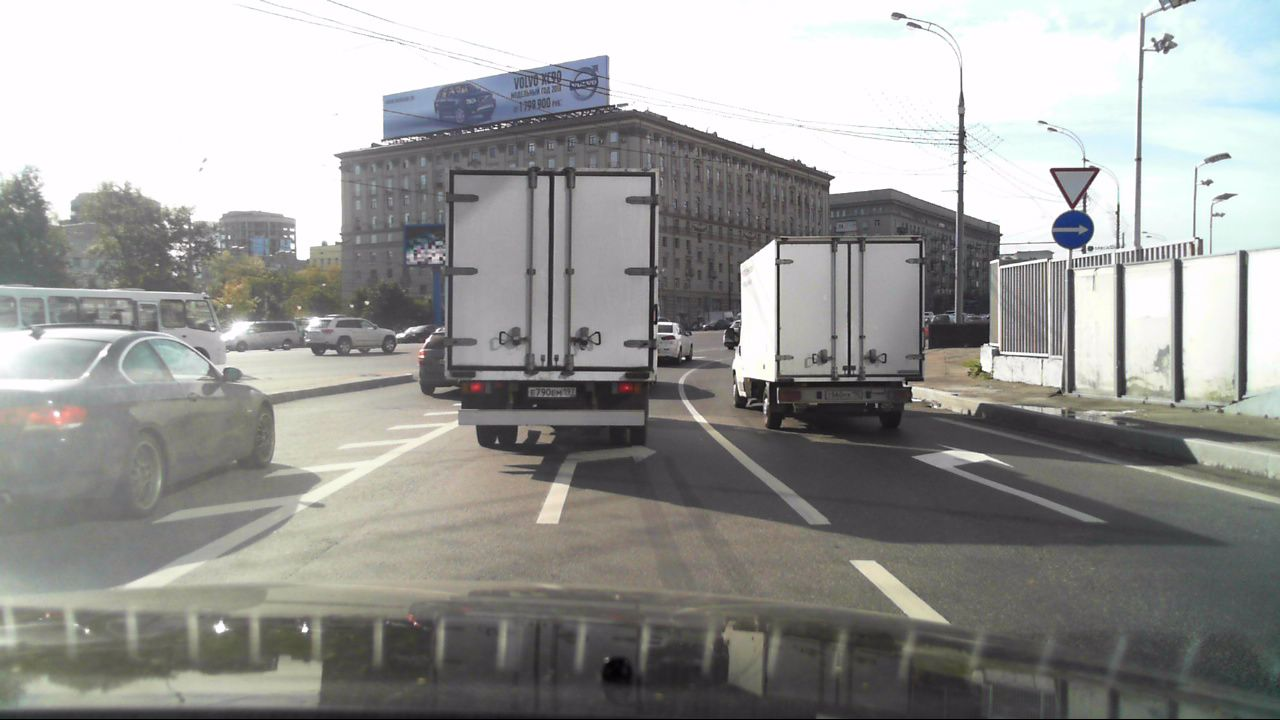Turn Right: (1051, 210, 1095, 250)
